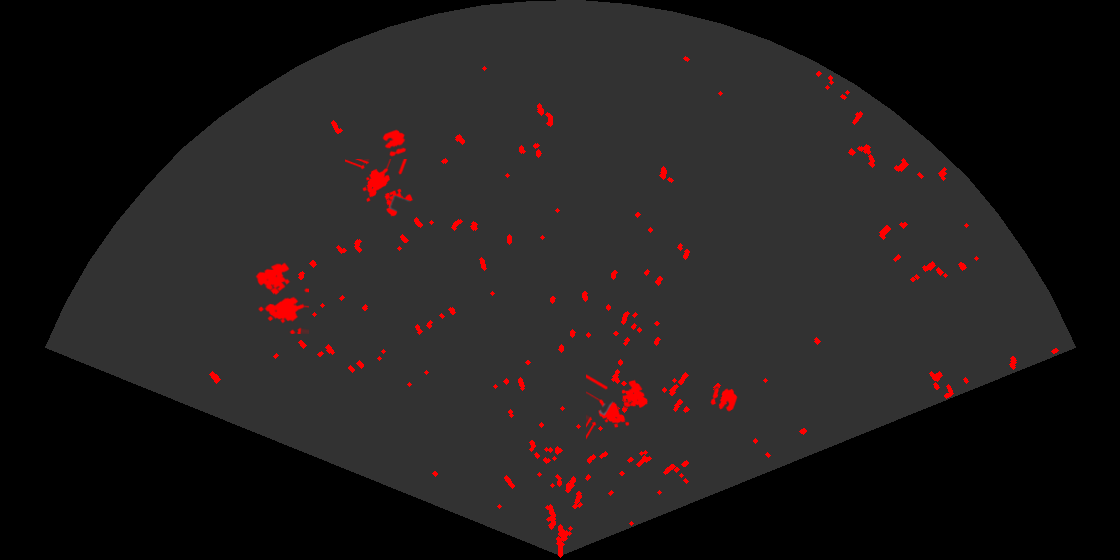ball: (709, 386, 739, 414), (381, 128, 408, 158)
cage: (586, 373, 649, 441), (345, 159, 415, 218), (254, 261, 309, 334)
